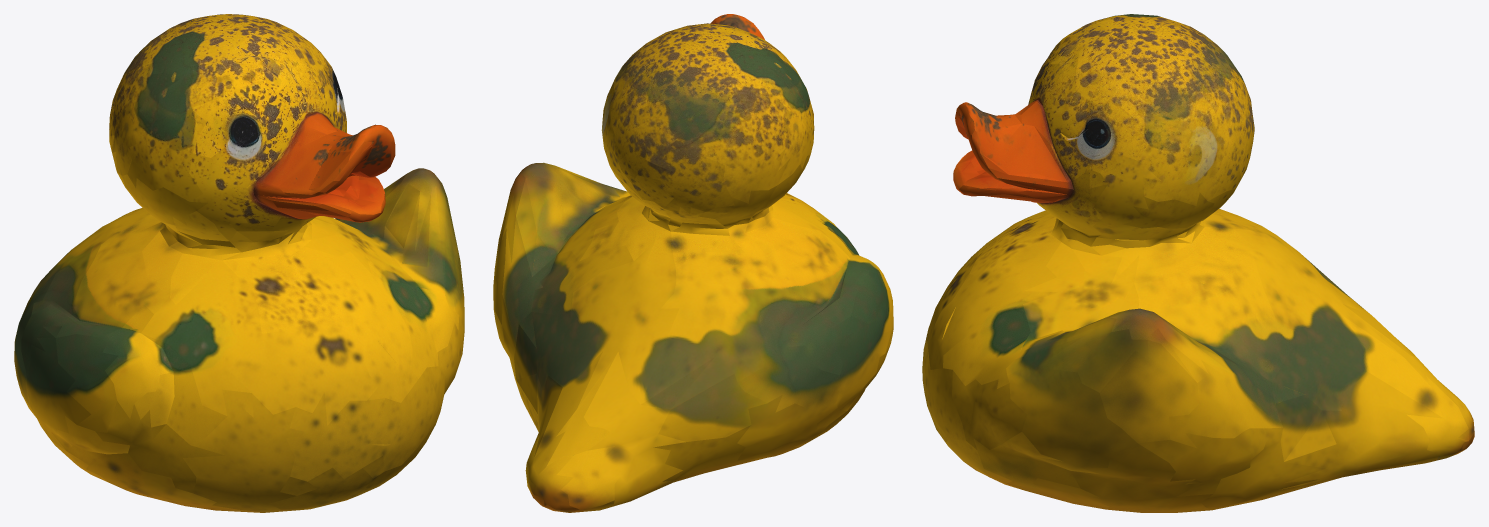
Rendered from paperella.glb.
3 renders of one model, left to right at view 1: azimuth 30°, elevation 25°; view 2: azimuth 150°, elevation 25°; view 3: azimuth 270°, elevation 25°, orthographic. The views are drawn at different scales.
Size of the model in its own units: 1.57 by 1.58 by 1.9.
1 material, 1 textured.
